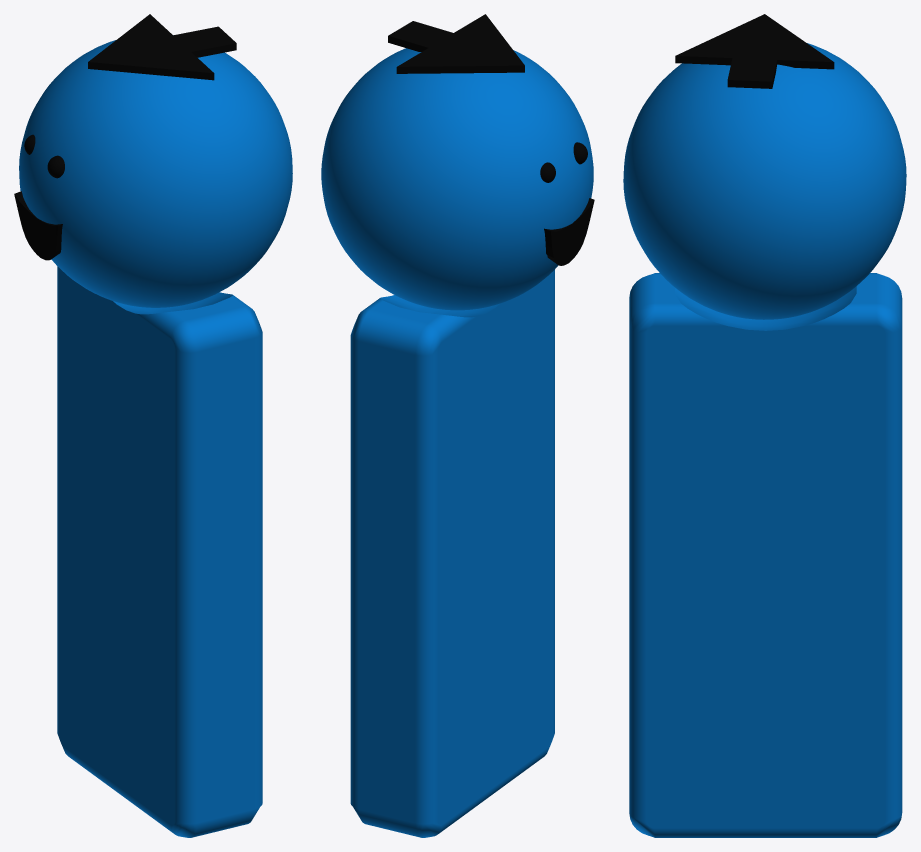
Rendered from blue_happy.obj.
The picture shows the model from 3 angles, left to right: view 1: azimuth 30°, elevation 25°; view 2: azimuth 150°, elevation 25°; view 3: azimuth 270°, elevation 25°; orthographic projection. The views are drawn at different scales.
Parts seen in each view (by area): view 1: 1_Curve.002_Curve.004, 5.002_Curve.002_Curve.003_5.002_Curve.002_Curve.004; view 2: 1_Curve.002_Curve.004, 5.002_Curve.002_Curve.003_5.002_Curve.002_Curve.004; view 3: 1_Curve.002_Curve.004, 5.002_Curve.002_Curve.003_5.002_Curve.002_Curve.004.
Boxes of the visible parts, x1=… form: 1_Curve.002_Curve.004: x1=19, y1=35, x2=292, y2=837; 5.002_Curve.002_Curve.003_5.002_Curve.002_Curve.004: x1=14, y1=14, x2=236, y2=260; 1_Curve.002_Curve.004: x1=321, y1=48, x2=593, y2=837; 5.002_Curve.002_Curve.003_5.002_Curve.002_Curve.004: x1=388, y1=14, x2=594, y2=265; 1_Curve.002_Curve.004: x1=623, y1=43, x2=906, y2=837; 5.002_Curve.002_Curve.003_5.002_Curve.002_Curve.004: x1=675, y1=14, x2=834, y2=88.
Bounding box in the file's own units: 0.1662 × 0.4993 × 0.1661.
